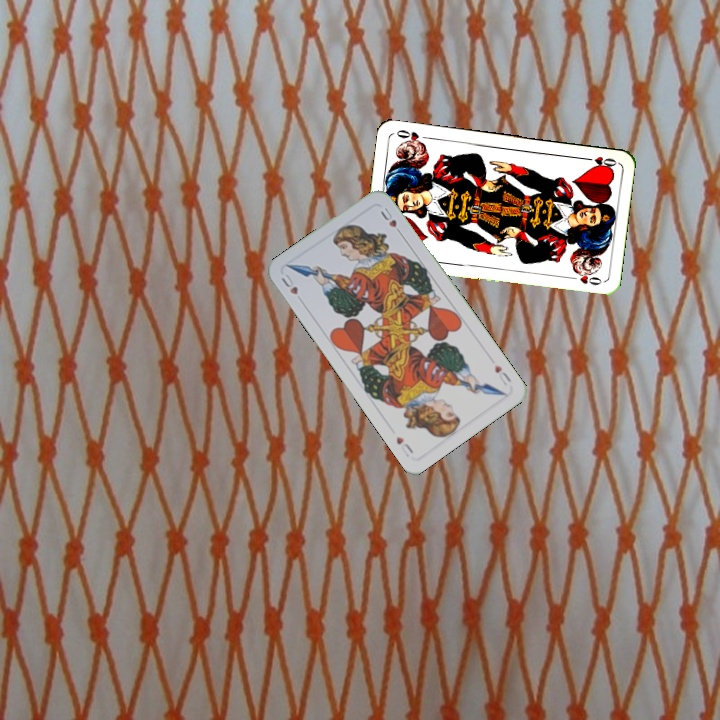HO: (579, 152, 619, 170)
HU: (490, 360, 514, 388), (277, 270, 301, 297)
